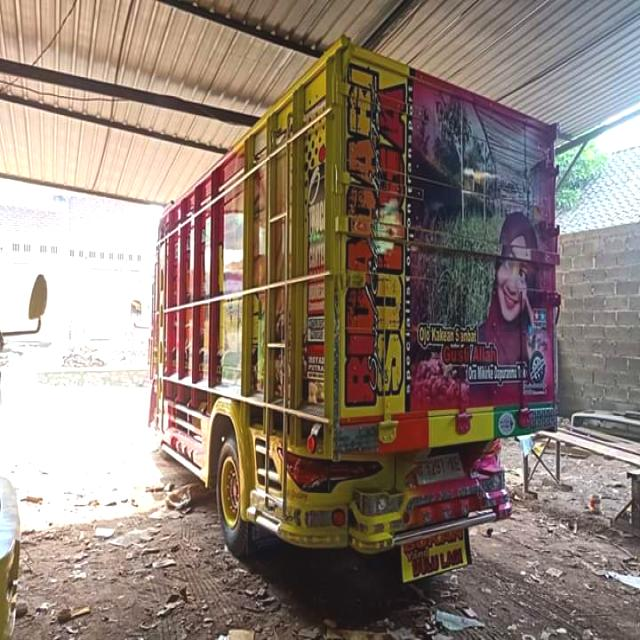truck: (131, 31, 559, 587)
